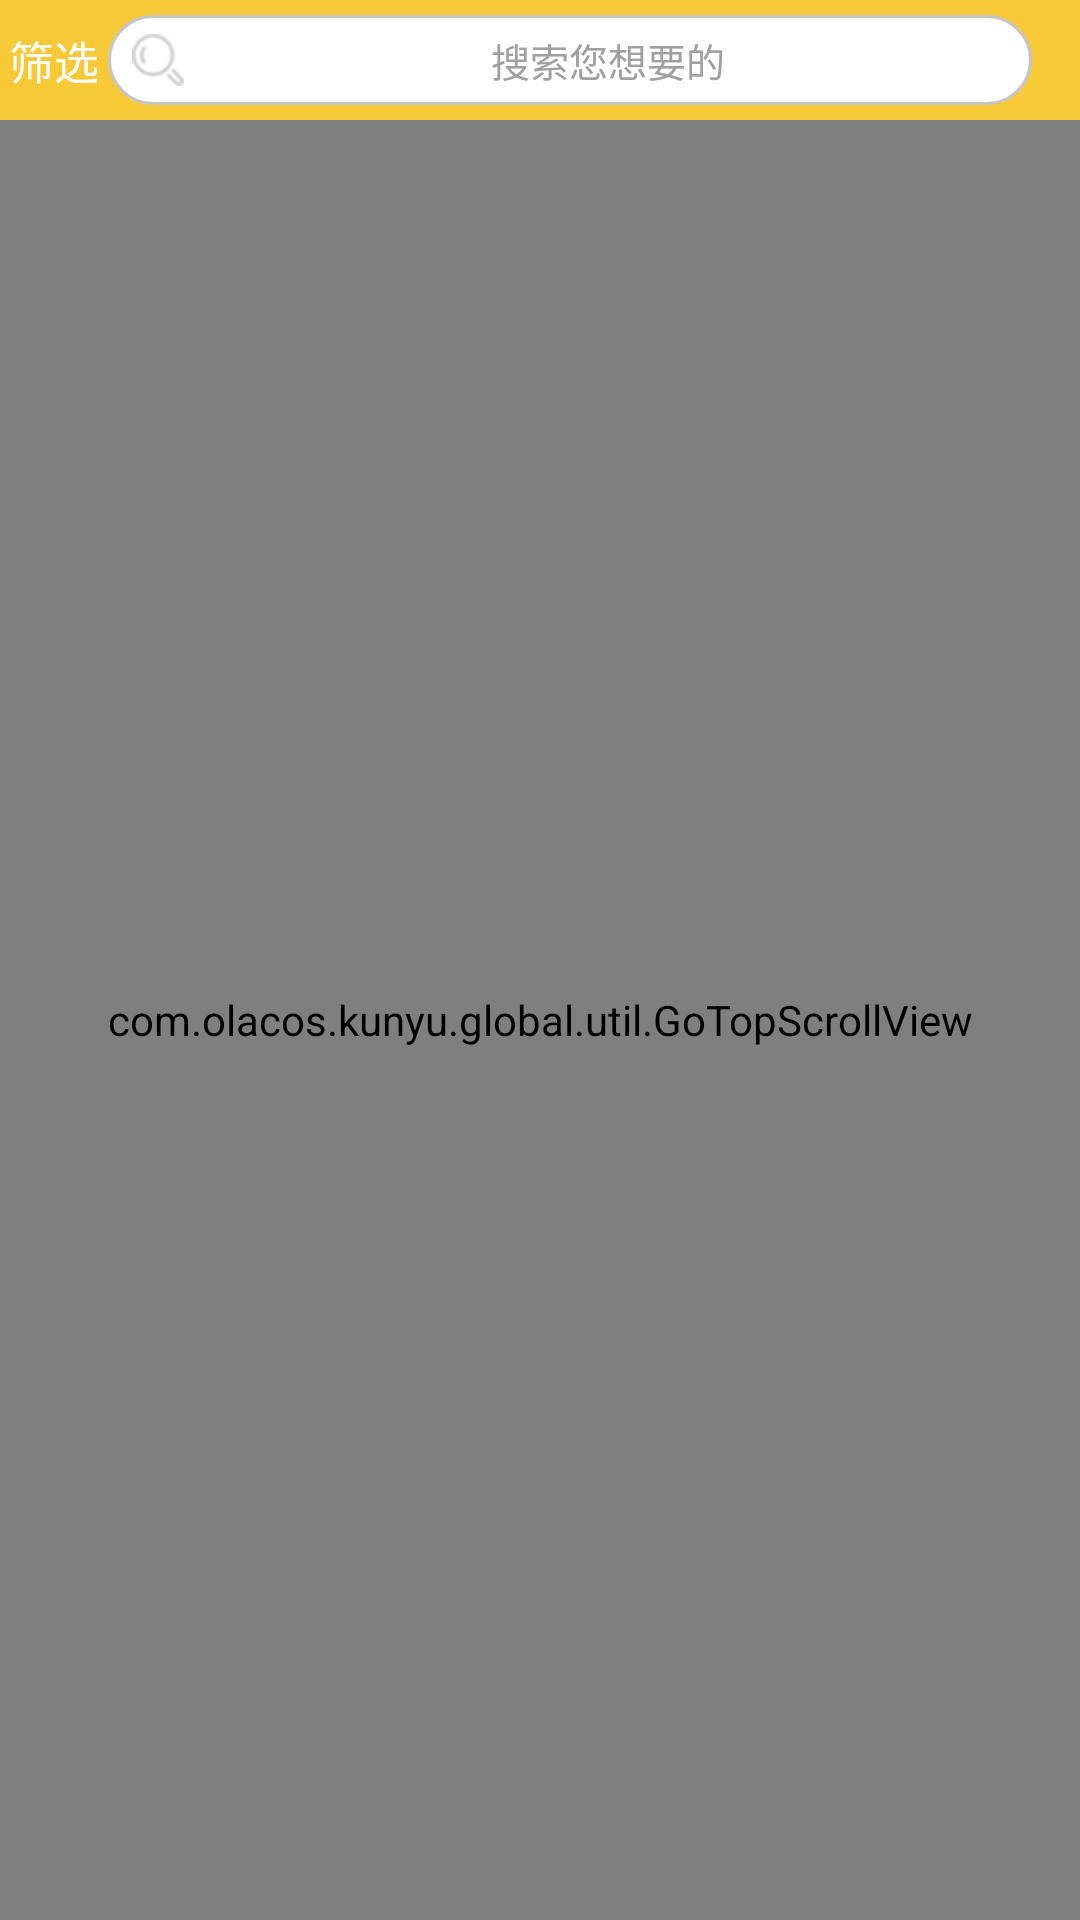

Icons on this 1080w x 1920h Android screen, each with its box as region(x1, y1, x2, y2):
find shape: region(132, 34, 184, 86)
